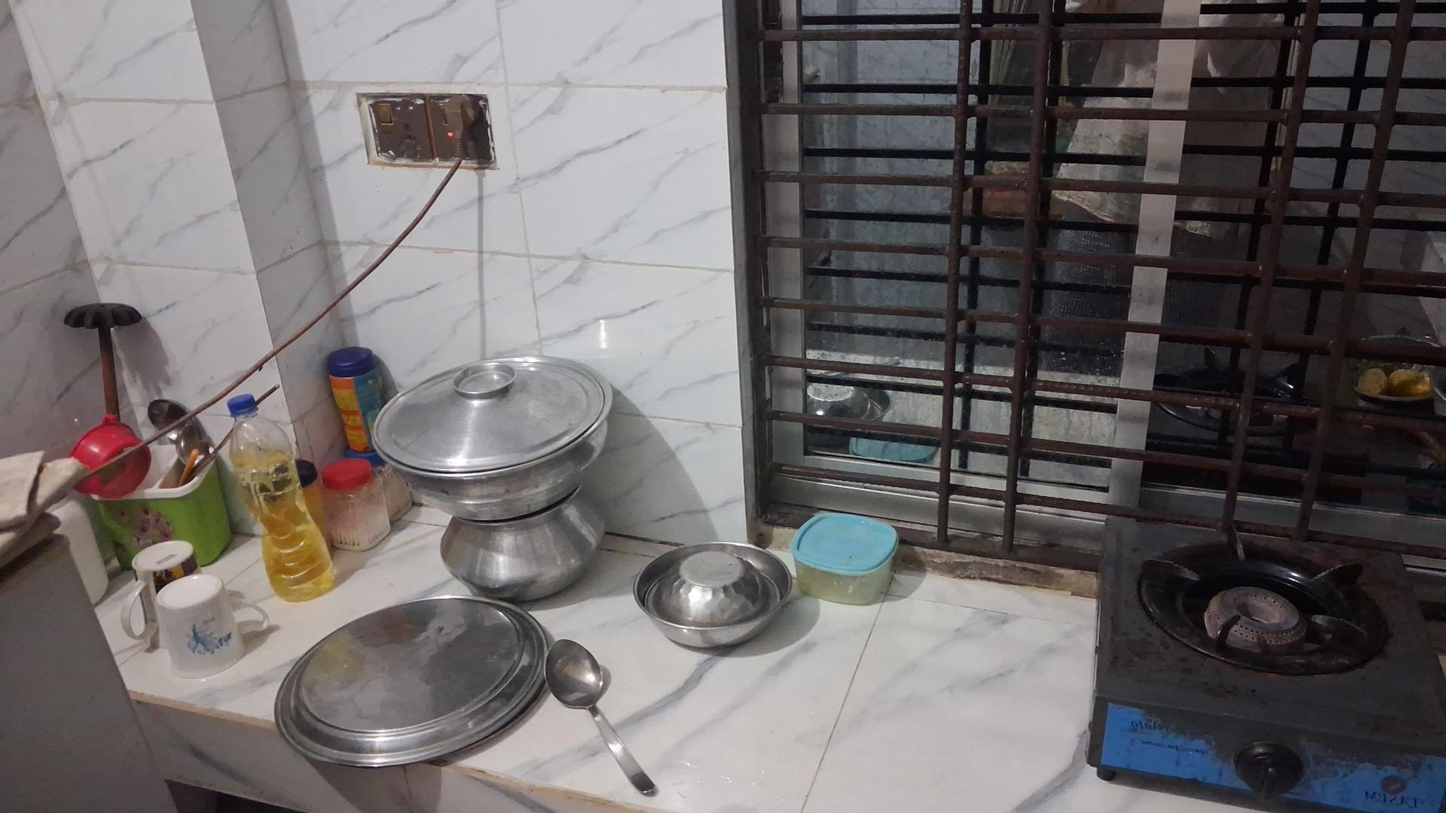Bottle: (223, 396, 339, 598)
Bowl: (634, 544, 788, 651)
Cup: (154, 571, 268, 672)
Jar: (791, 505, 898, 603), (322, 462, 395, 548), (326, 354, 383, 454)
Plate: (278, 593, 550, 773)
Pot: (372, 353, 608, 513), (435, 505, 610, 598)
Spoon: (545, 640, 651, 799)
